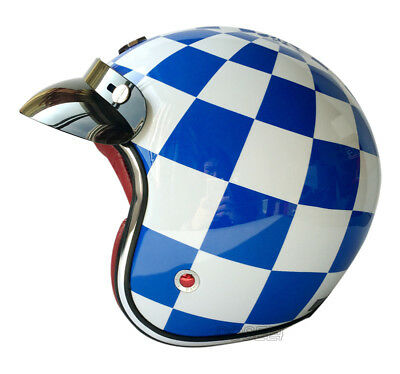with_helmet: (15, 25, 381, 344)
